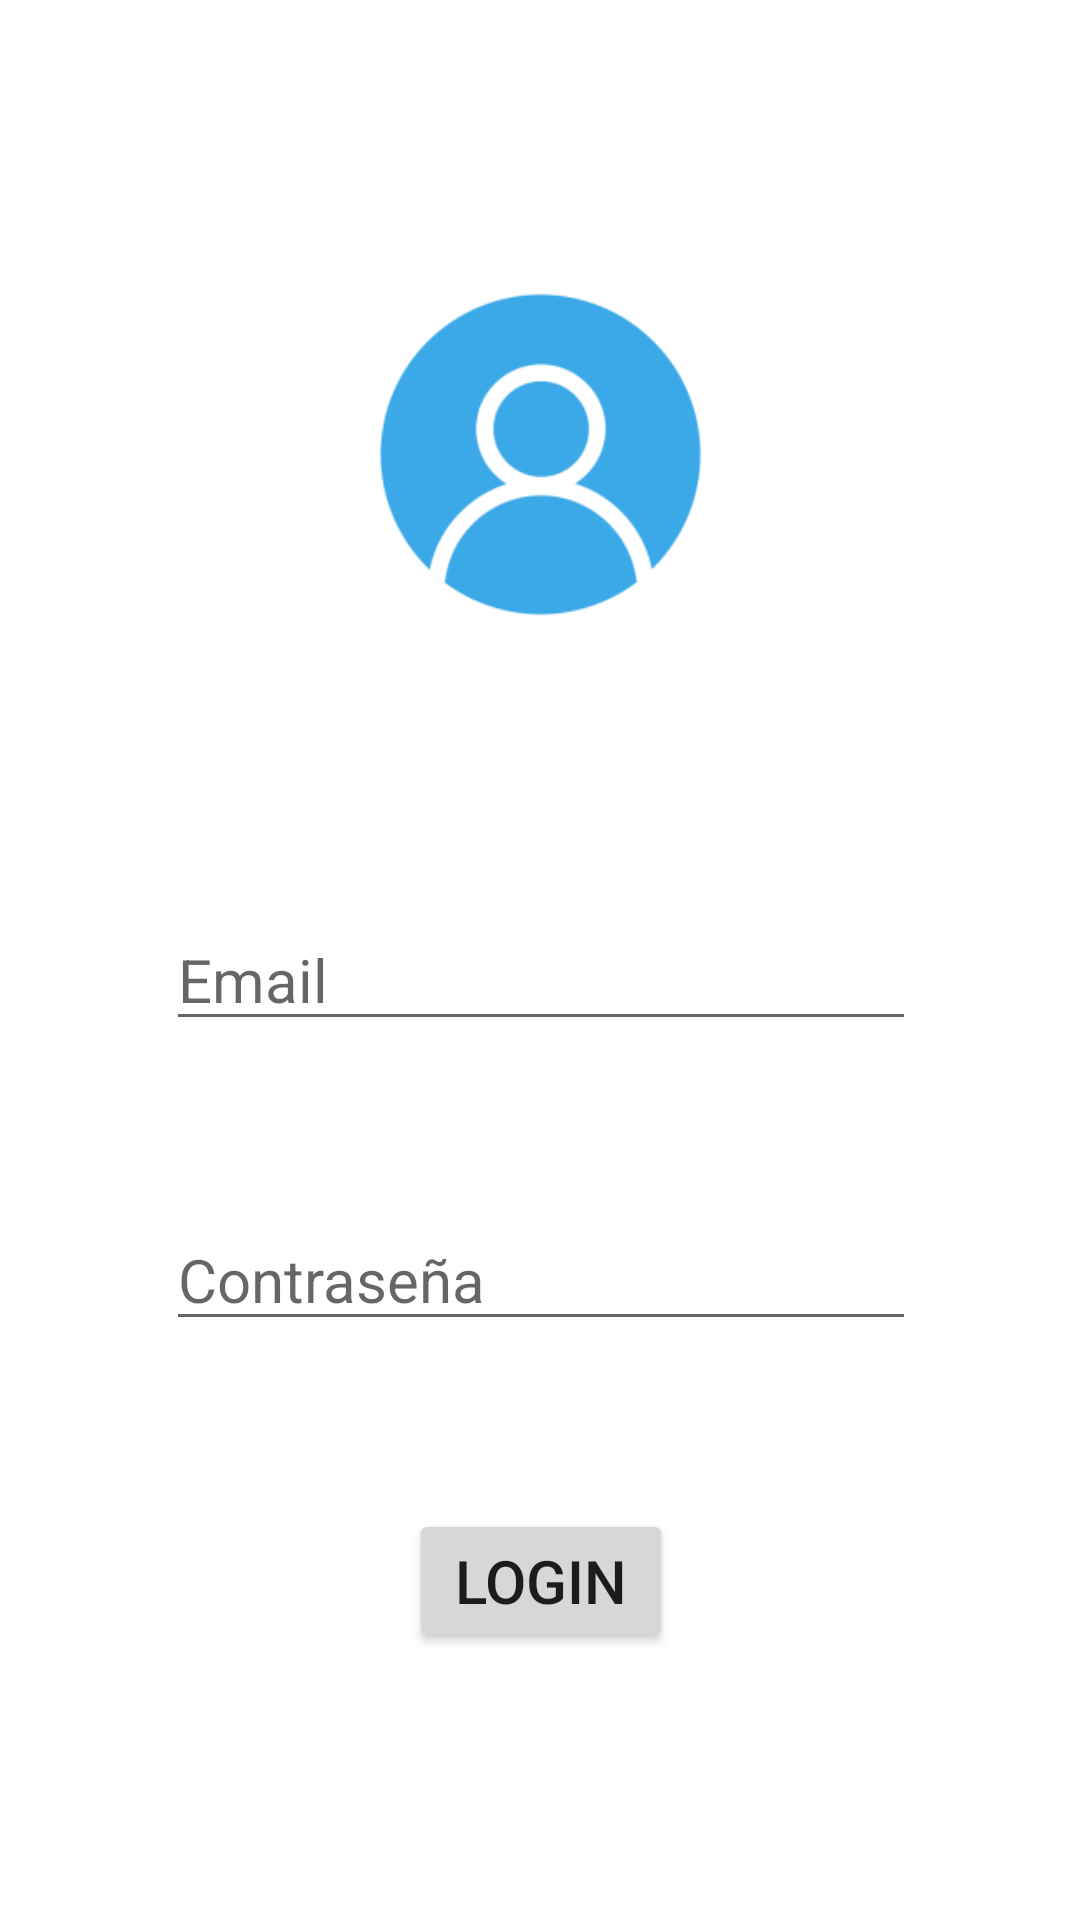

Icon bounding boxes for this 1080x1920 phone screenshot, format (x1, y1, x2, y2):
login: (380, 294, 701, 615)
